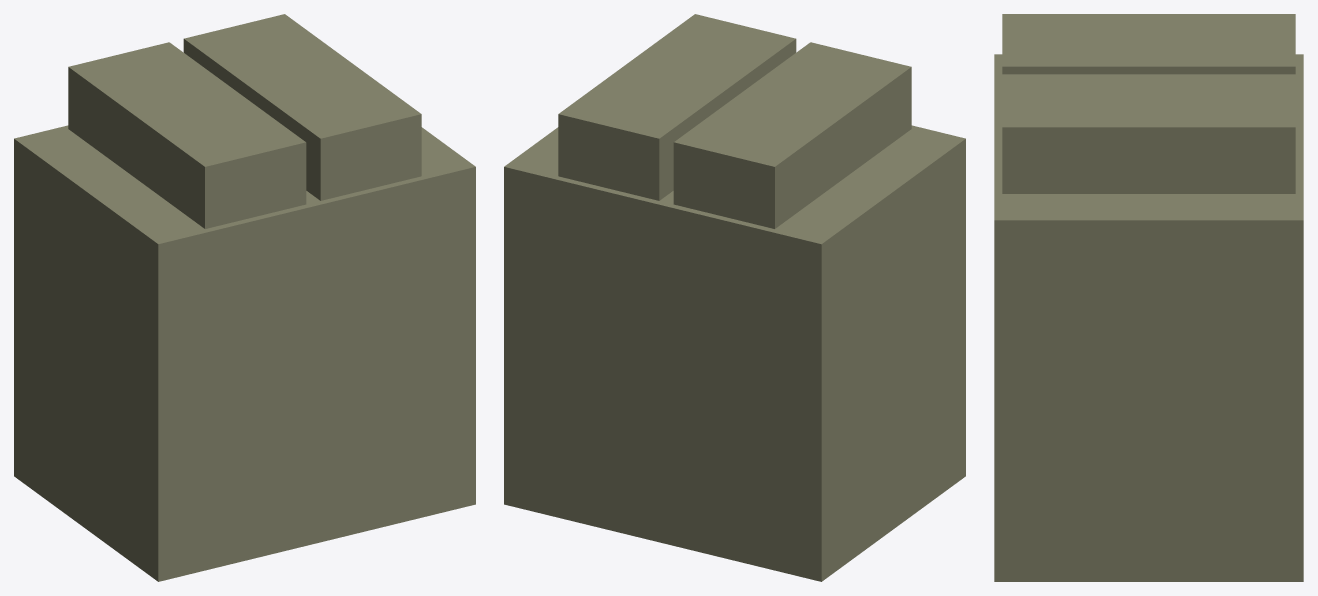
The model's file is ind_sawtooth.glb.
3 views of the same model, side by side, from view 1: azimuth 30°, elevation 25°; view 2: azimuth 150°, elevation 25°; view 3: azimuth 270°, elevation 25° (orthographic). The views are drawn at different scales.
Visible parts, largest first — view 1: ind_sawtooth; view 2: ind_sawtooth; view 3: ind_sawtooth.
Boxes of the visible parts, x1=… form: ind_sawtooth: x1=14, y1=14, x2=475, y2=581; ind_sawtooth: x1=504, y1=14, x2=965, y2=581; ind_sawtooth: x1=994, y1=14, x2=1303, y2=581.
Bounding box in the file's own units: 0.748 × 0.9 × 0.589.
